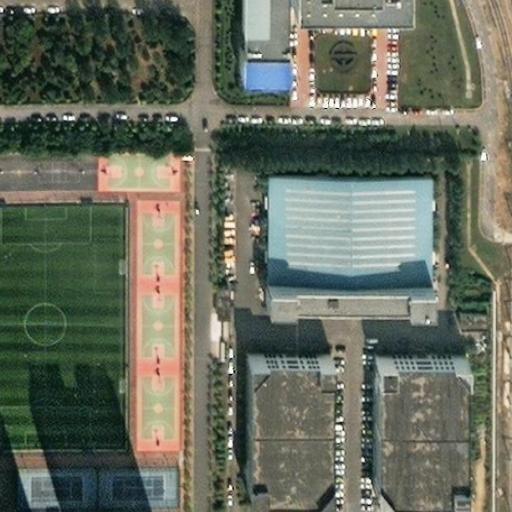building: (250, 155, 414, 264), (361, 336, 452, 481), (236, 338, 319, 482), (249, 264, 414, 286), (312, 88, 370, 104), (442, 294, 473, 312)
